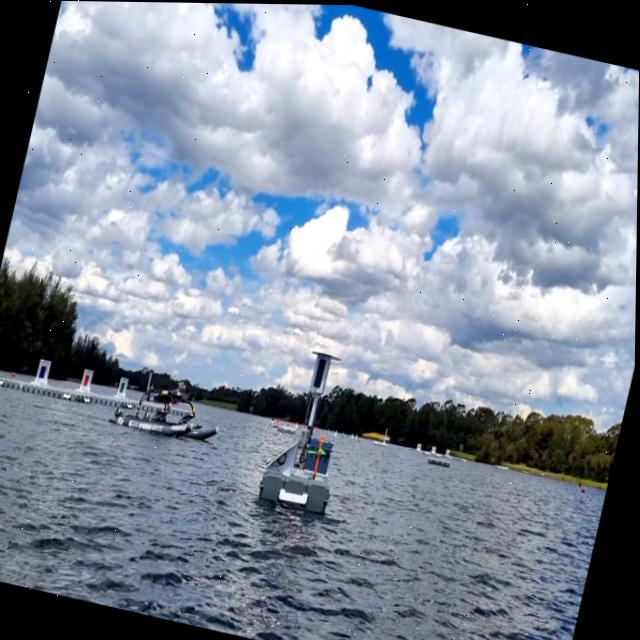led: (311, 355, 329, 390)
